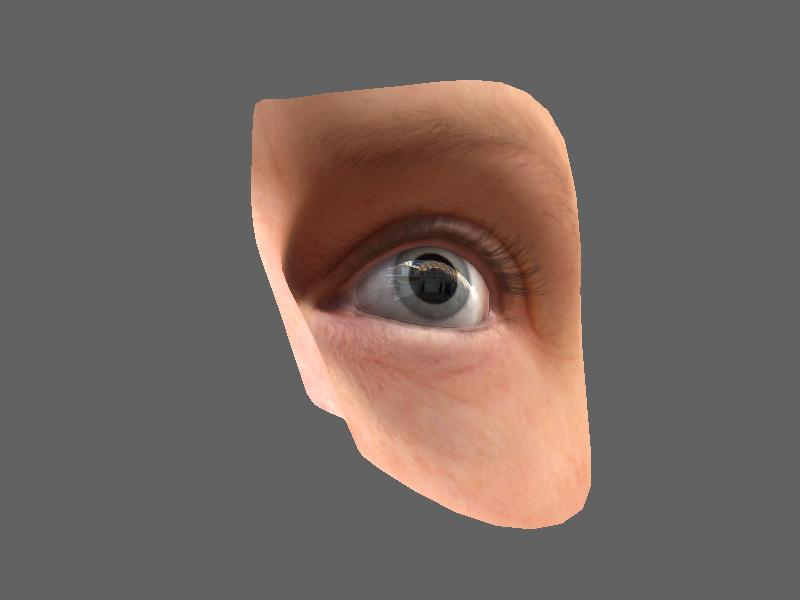iris: (393, 245, 474, 321)
